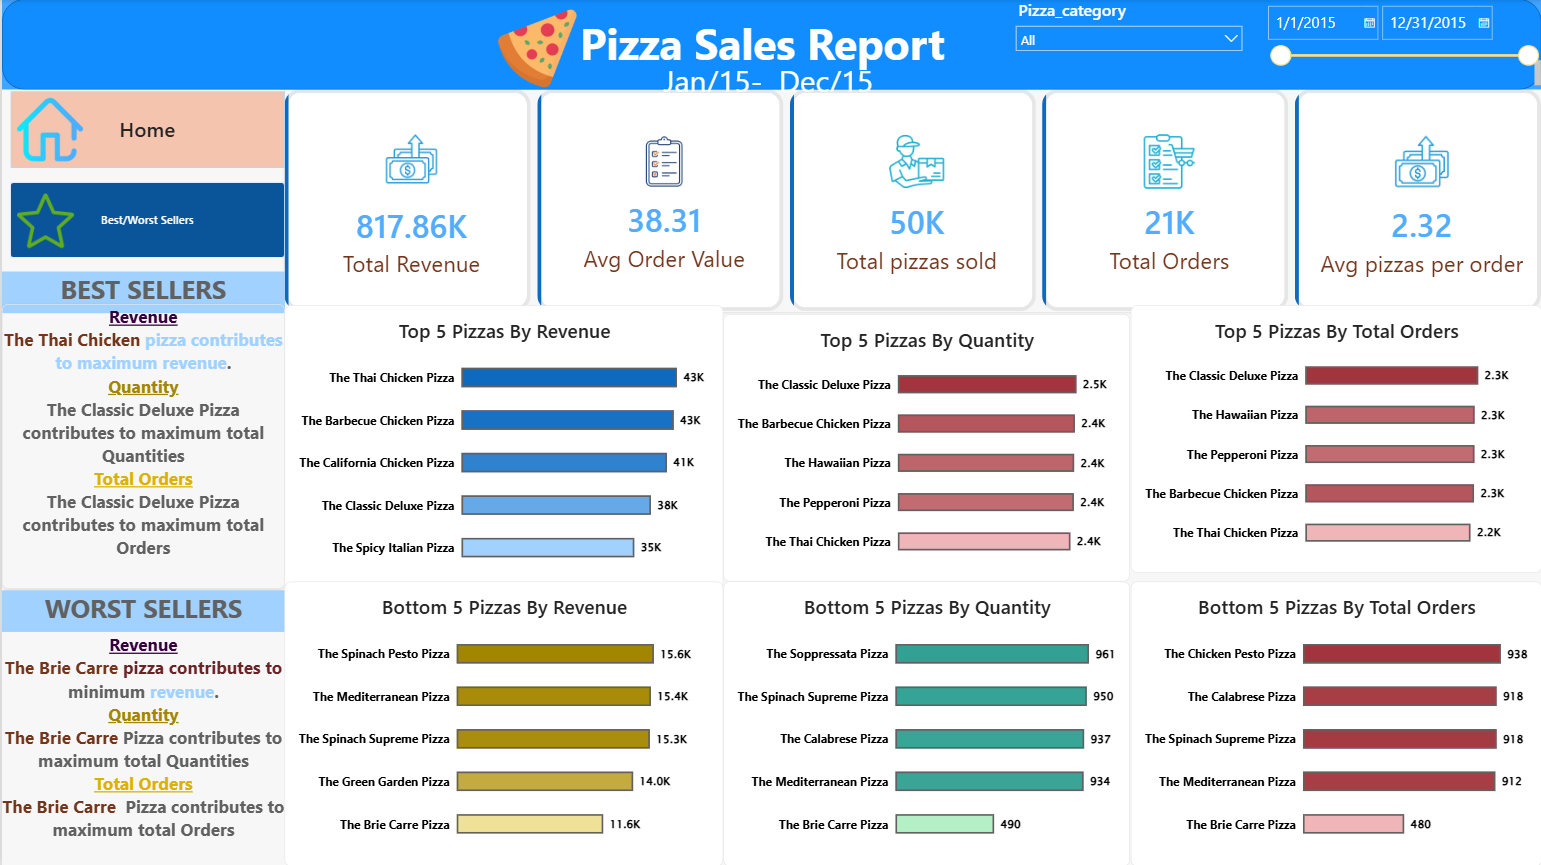

Layout of this report page (visuals, bound fields, positions):
{"tool":"powerbi","page":{"name":"Best/Worst Sellers","canvas":[1920,1080],"ordinal":1},"visuals":[{"type":"cardVisual","fields":{"Data":["pizza_sales.Total Revenue","pizza_sales.Avg Order Value","pizza_sales.Total pizzas sold","pizza_sales.Total Orders","pizza_sales.Avg pizzas per order"]},"box":[352.4,112.1,1567.1,277.6],"z":0},{"type":"shape","box":[0,0,1920,113.1],"z":1},{"type":"textbox","box":[19.5,19.5,1859,75.7],"z":2},{"type":"textbox","box":[0,75.7,1919.6,39],"z":3},{"type":"image","box":[10.8,10.8,1313.6,101.7],"z":4},{"type":"textbox","box":[0,339.8,352.8,51.9],"z":10},{"type":"textbox","box":[0,380.9,352.8,354.9],"z":11},{"type":"textbox","box":[0,789.9,352.8,290],"z":12},{"type":"textbox","box":[0,738,352.8,51.9],"z":13},{"type":"slicer","fields":{"Values":["pizza_sales.pizza_category"]},"box":[1259.5,0,292.2,112.5],"z":14},{"type":"slicer","fields":{"Values":["pizza_sales.order_date"]},"box":[1571.2,2.2,348.4,112.5],"z":15},{"type":"barChart","title":"Top 5 Pizzas By Revenue","fields":{"Category":["pizza_sales.pizza_name"],"Y":["pizza_sales.Total Revenue"]},"box":[352.4,381.8,547.3,355.1],"z":16},{"type":"barChart","title":"Bottom 5 Pizzas By Revenue","fields":{"Category":["pizza_sales.pizza_name"],"Y":["pizza_sales.Total Revenue"]},"box":[352.4,726.2,547.3,355.1],"z":17},{"type":"barChart","title":"Top 5 Pizzas By Quantity","fields":{"Category":["pizza_sales.pizza_name"],"Y":["pizza_sales.Total pizzas sold"]},"box":[899.7,392.4,507.2,333.7],"z":18},{"type":"barChart","title":"Bottom 5 Pizzas By Quantity","fields":{"Category":["pizza_sales.pizza_name"],"Y":["pizza_sales.Total pizzas sold"]},"box":[899.7,726.2,507.2,355.1],"z":19},{"type":"barChart","title":"Top 5 Pizzas By Total Orders","fields":{"Category":["pizza_sales.pizza_name"],"Y":["pizza_sales.Total Orders"]},"box":[1406.9,381.8,512.6,333.7],"z":20},{"type":"barChart","title":"Bottom 5 Pizzas By Total Orders","fields":{"Category":["pizza_sales.pizza_name"],"Y":["pizza_sales.Total Orders"]},"box":[1406.9,726.2,512.6,355.1],"z":21},{"type":"pageNavigator","box":[10.8,114.7,341.9,95.2],"z":22},{"type":"pageNavigator","box":[10.8,229.4,341.9,93.1],"z":23},{"type":"image","box":[19.5,142.8,71.4,266.2],"z":24},{"type":"image","box":[19.5,86.6,82.2,151.5],"z":25}]}

Visuals, with their boxes in screenshot pixels (x1, y1, x2, y2), scaled from the page's 1920x1080 canvas onto the 1541x865 screenshot:
cardVisual - pizza_sales.Total Revenue x pizza_sales.Avg Order Value: pyautogui.locateOnScreen(283, 90, 1540, 312)
shape: pyautogui.locateOnScreen(0, 0, 1540, 91)
textbox: pyautogui.locateOnScreen(16, 16, 1508, 76)
textbox: pyautogui.locateOnScreen(0, 61, 1540, 92)
image: pyautogui.locateOnScreen(9, 9, 1063, 90)
textbox: pyautogui.locateOnScreen(0, 272, 283, 314)
textbox: pyautogui.locateOnScreen(0, 305, 283, 589)
textbox: pyautogui.locateOnScreen(0, 633, 283, 864)
textbox: pyautogui.locateOnScreen(0, 591, 283, 633)
slicer - pizza_sales.pizza_category: pyautogui.locateOnScreen(1011, 0, 1245, 90)
slicer - pizza_sales.order_date: pyautogui.locateOnScreen(1261, 2, 1540, 92)
"Top 5 Pizzas By Revenue" barChart: pyautogui.locateOnScreen(283, 306, 722, 590)
"Bottom 5 Pizzas By Revenue" barChart: pyautogui.locateOnScreen(283, 582, 722, 864)
"Top 5 Pizzas By Quantity" barChart: pyautogui.locateOnScreen(722, 314, 1129, 582)
"Bottom 5 Pizzas By Quantity" barChart: pyautogui.locateOnScreen(722, 582, 1129, 864)
"Top 5 Pizzas By Total Orders" barChart: pyautogui.locateOnScreen(1129, 306, 1540, 573)
"Bottom 5 Pizzas By Total Orders" barChart: pyautogui.locateOnScreen(1129, 582, 1540, 864)
pageNavigator: pyautogui.locateOnScreen(9, 92, 283, 168)
pageNavigator: pyautogui.locateOnScreen(9, 184, 283, 258)
image: pyautogui.locateOnScreen(16, 114, 73, 328)
image: pyautogui.locateOnScreen(16, 69, 82, 191)
